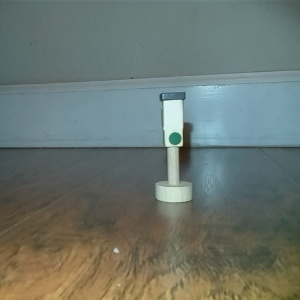traffic light green: (151, 88, 196, 204)
